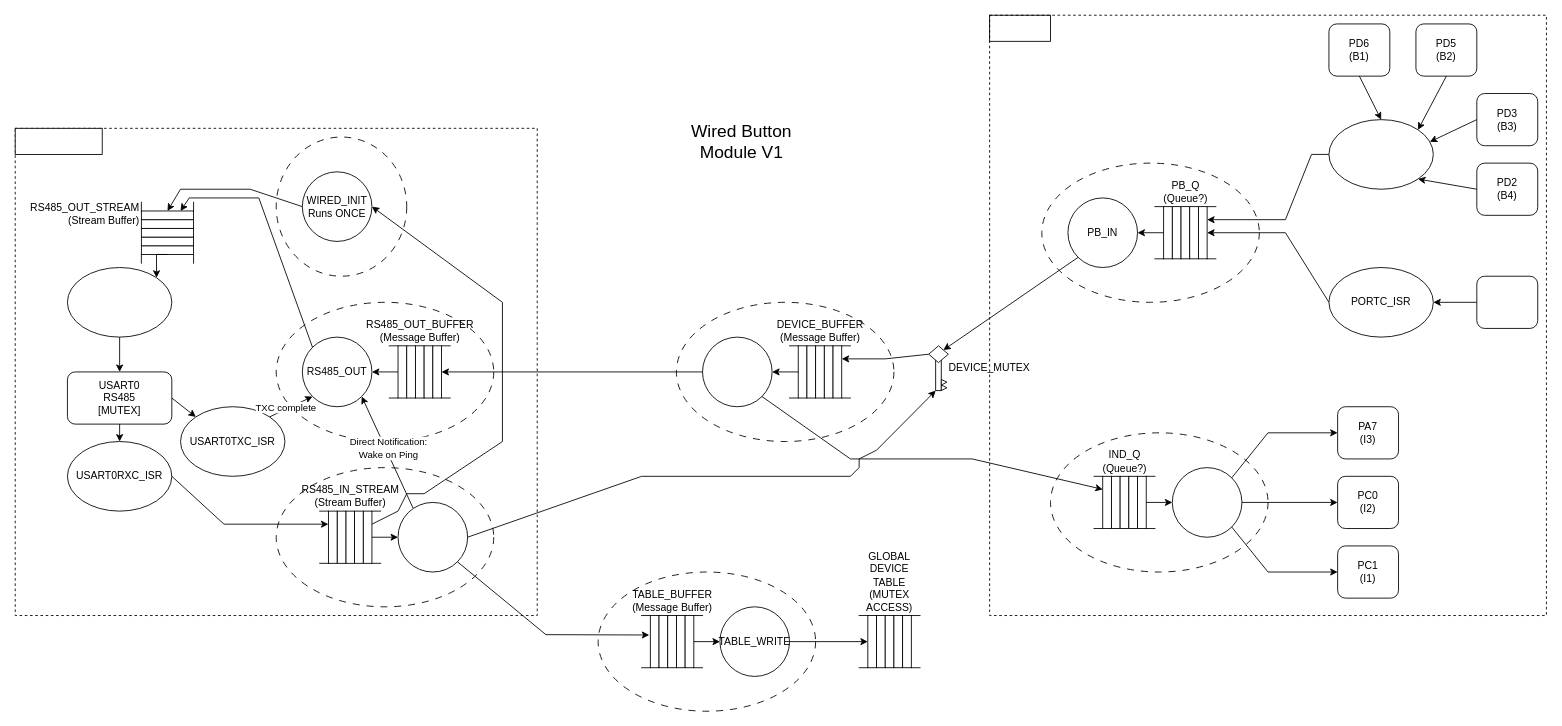
Image size: 1562x726. Some labels were removed from this diagram. The shapes that lost their labels are listed below. From the top down, each one's centre as x and y in pixels, then its label:
At point 1020,27: "I/O Section".
At point 58,140: "RS485 Section".
At point 1380,154: "PORTD_ISR".
At point 119,302: "USART0DRE_ISR".
At point 1507,301: "PC3 (B1)".
At point 737,371: "DEVICE SPECIFIC".
At point 1206,502: "INDICATOR_OUT".
At point 432,537: "RS485_IN".
